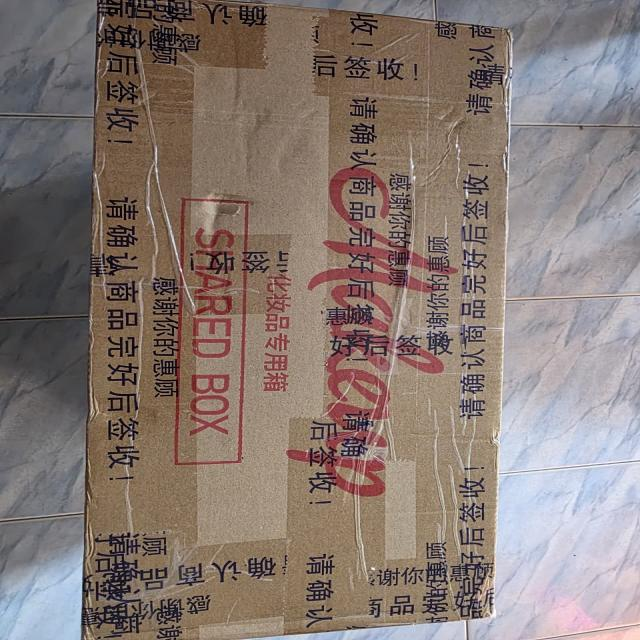carton_box: (70, 0, 533, 640)
package_damage: (188, 184, 263, 222)
